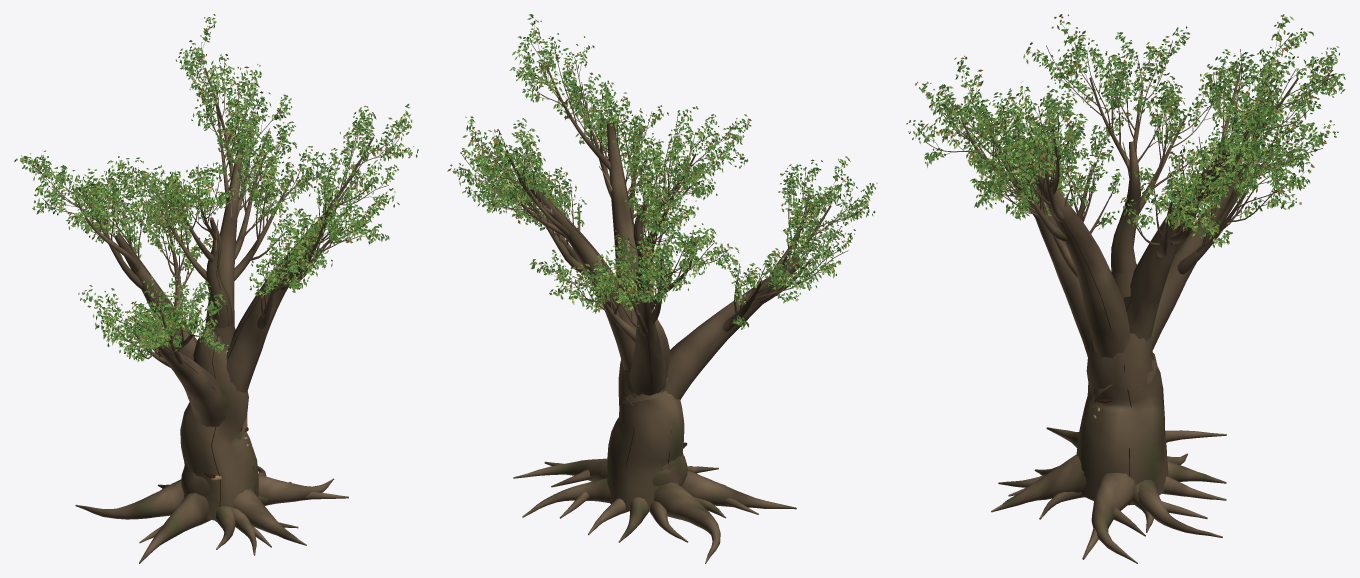
Rendered from ancient_tree_08.glb.
3 renders of one model, left to right at view 1: azimuth 30°, elevation 25°; view 2: azimuth 150°, elevation 25°; view 3: azimuth 270°, elevation 25°, orthographic. The views are drawn at different scales.
Parts seen in each view (by area): view 1: AncientTreeWood, AncientLeaves, FineBranches, DirectedBarkGrooves; view 2: AncientTreeWood, AncientLeaves, FineBranches; view 3: AncientTreeWood, AncientLeaves, FineBranches, DirectedBarkGrooves.
Boxes of the visible parts, box(x1,y1,x2,y2) form: AncientTreeWood: box(33, 42, 407, 563); AncientLeaves: box(14, 14, 418, 361); FineBranches: box(26, 21, 410, 356); DirectedBarkGrooves: box(119, 150, 327, 506); AncientTreeWood: box(461, 40, 863, 563); AncientLeaves: box(447, 14, 877, 329); FineBranches: box(456, 22, 870, 322); AncientTreeWood: box(925, 37, 1333, 563); AncientLeaves: box(906, 14, 1345, 247); FineBranches: box(915, 19, 1336, 245); DirectedBarkGrooves: box(1033, 141, 1244, 505).
Size of the model in its own units: 19.92 by 24.57 by 19.77.
